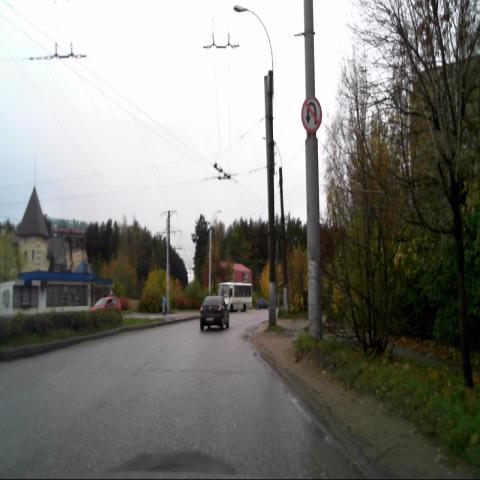3_19: (301, 96, 322, 132)
